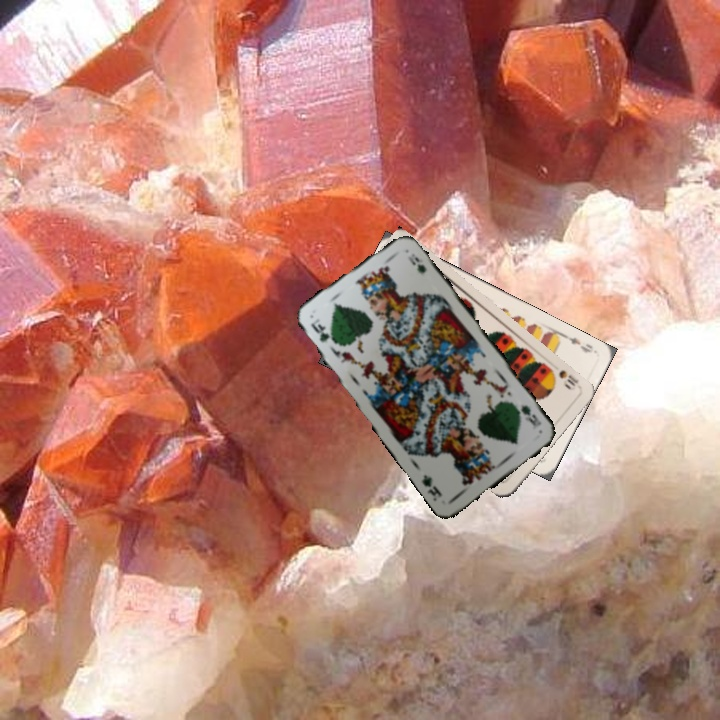E9: (560, 331, 598, 355)
GK: (511, 400, 544, 429), (306, 319, 339, 347)
S10: (545, 364, 581, 392)
